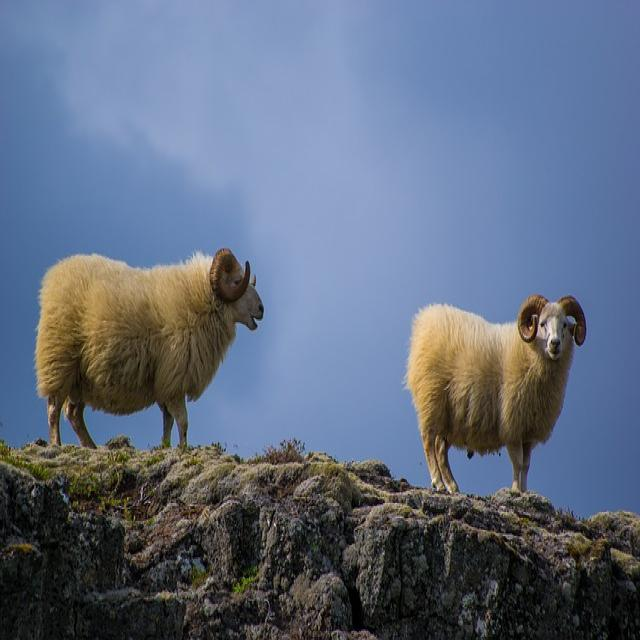goat: (36, 248, 264, 447), (406, 296, 586, 492)
